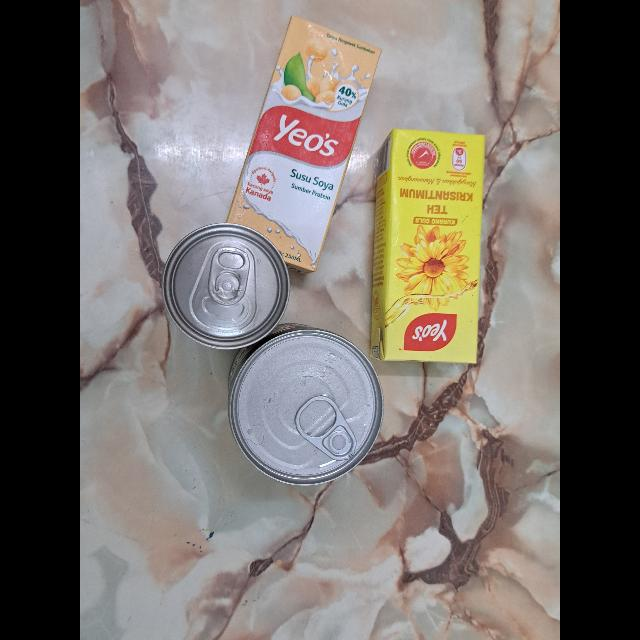aba de lata: (294, 396, 358, 460), (208, 247, 250, 305)
caixinha: (225, 14, 382, 276), (369, 130, 486, 364)
lata: (225, 322, 383, 486), (163, 224, 291, 352)
